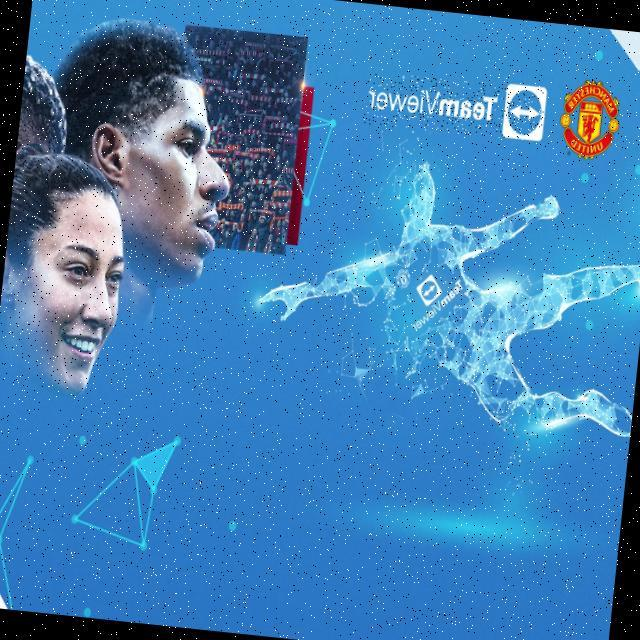TeamViewer: (362, 71, 545, 143)
